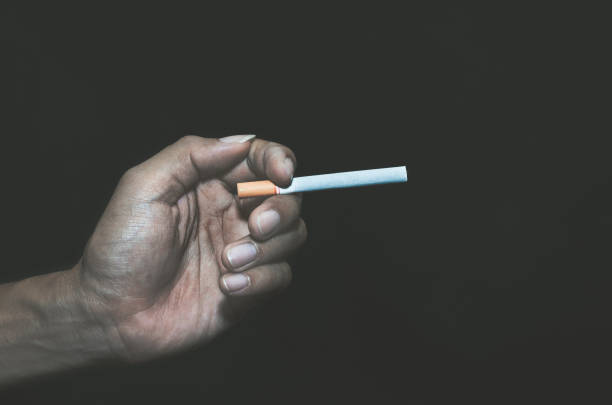cigarette: (235, 163, 409, 200)
